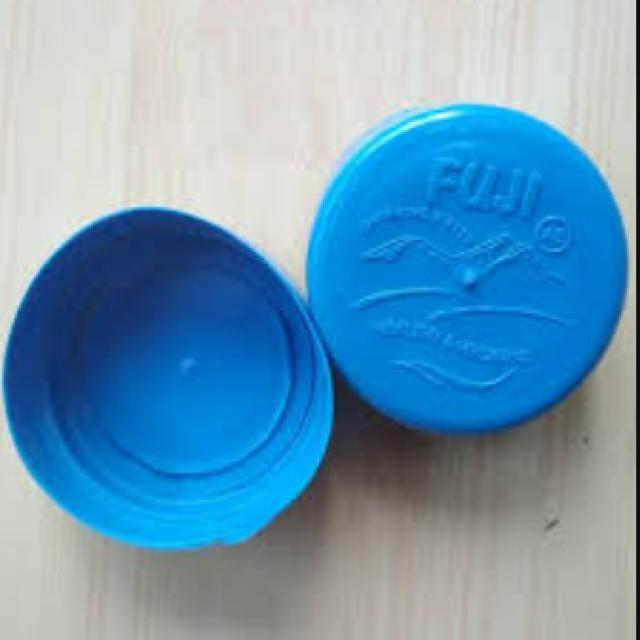TutupGalon: (18, 88, 622, 559)
